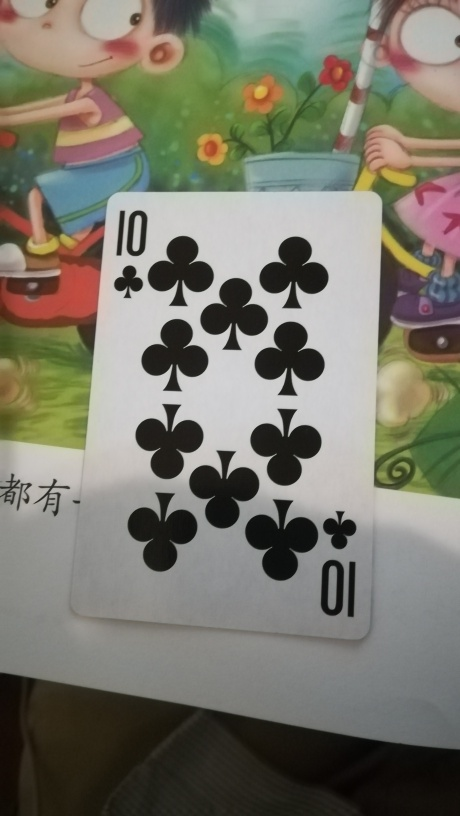mh 10: (71, 187, 384, 639)
